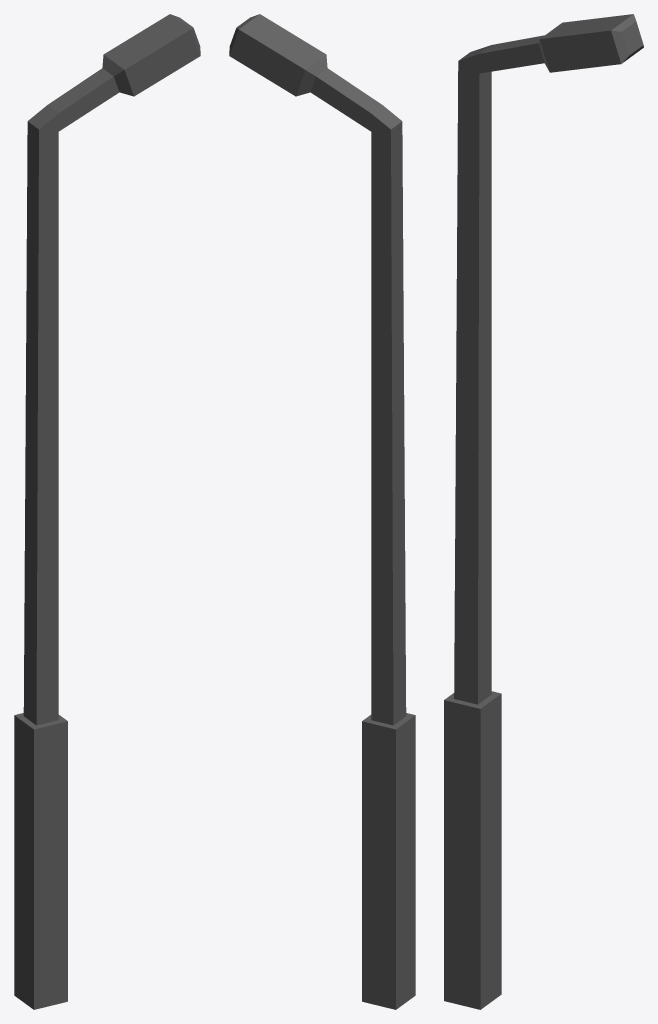
Rendered from LightPole.fbx.
3 renders of one model, left to right at view 1: azimuth 30°, elevation 25°; view 2: azimuth 150°, elevation 25°; view 3: azimuth 330°, elevation 25°, orthographic. The views are drawn at different scales.
Visible parts, largest first — view 1: LighttPole; view 2: LighttPole; view 3: LighttPole.
Boxes of the visible parts, bbox=[...] form: LighttPole: bbox=[14, 14, 200, 1009]; LighttPole: bbox=[229, 14, 415, 1009]; LighttPole: bbox=[444, 14, 643, 1009].
Size of the model in its own units: 159 by 845 by 34.25.
